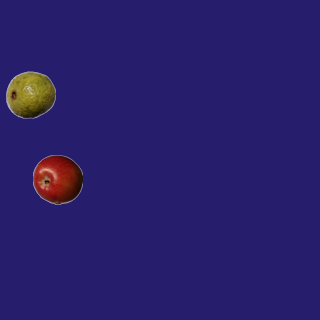Apple Braeburn: (32, 154, 82, 204)
Guava: (5, 69, 55, 119)
